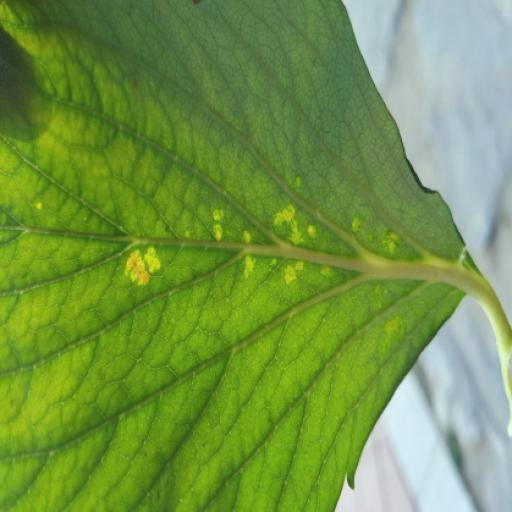Angular Leafspot: (31, 214, 412, 339)
